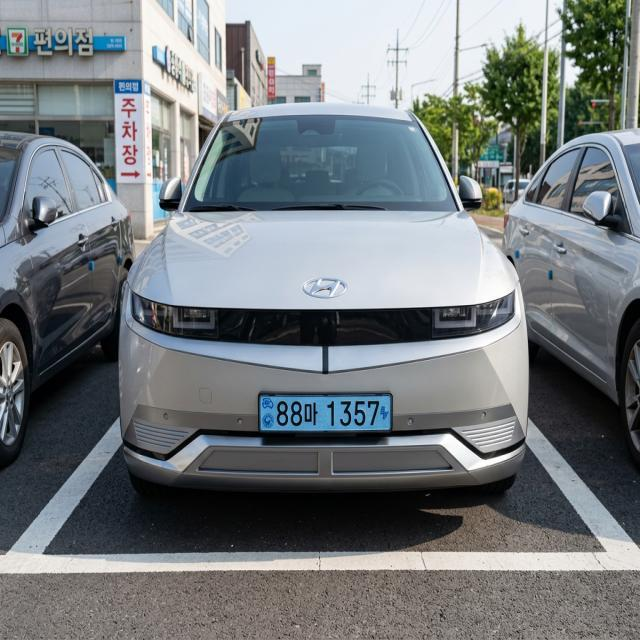car: (242, 379, 415, 450)
carev: (257, 391, 276, 440), (377, 390, 393, 438)
